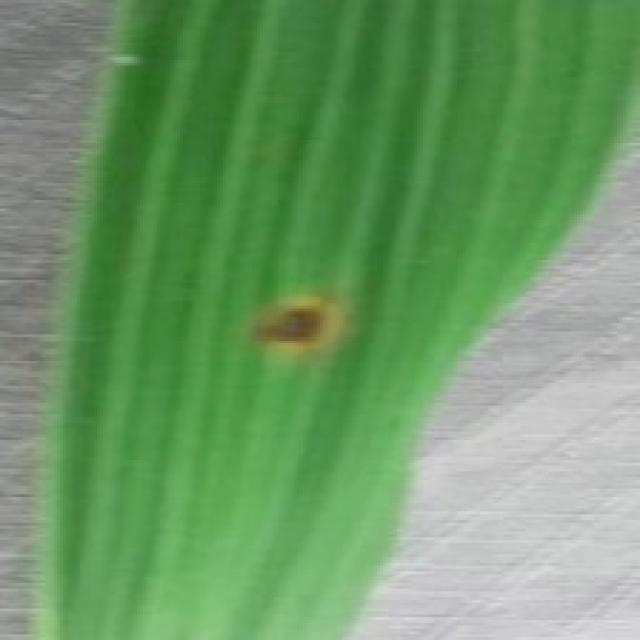Unhealthy: (251, 282, 349, 357)
